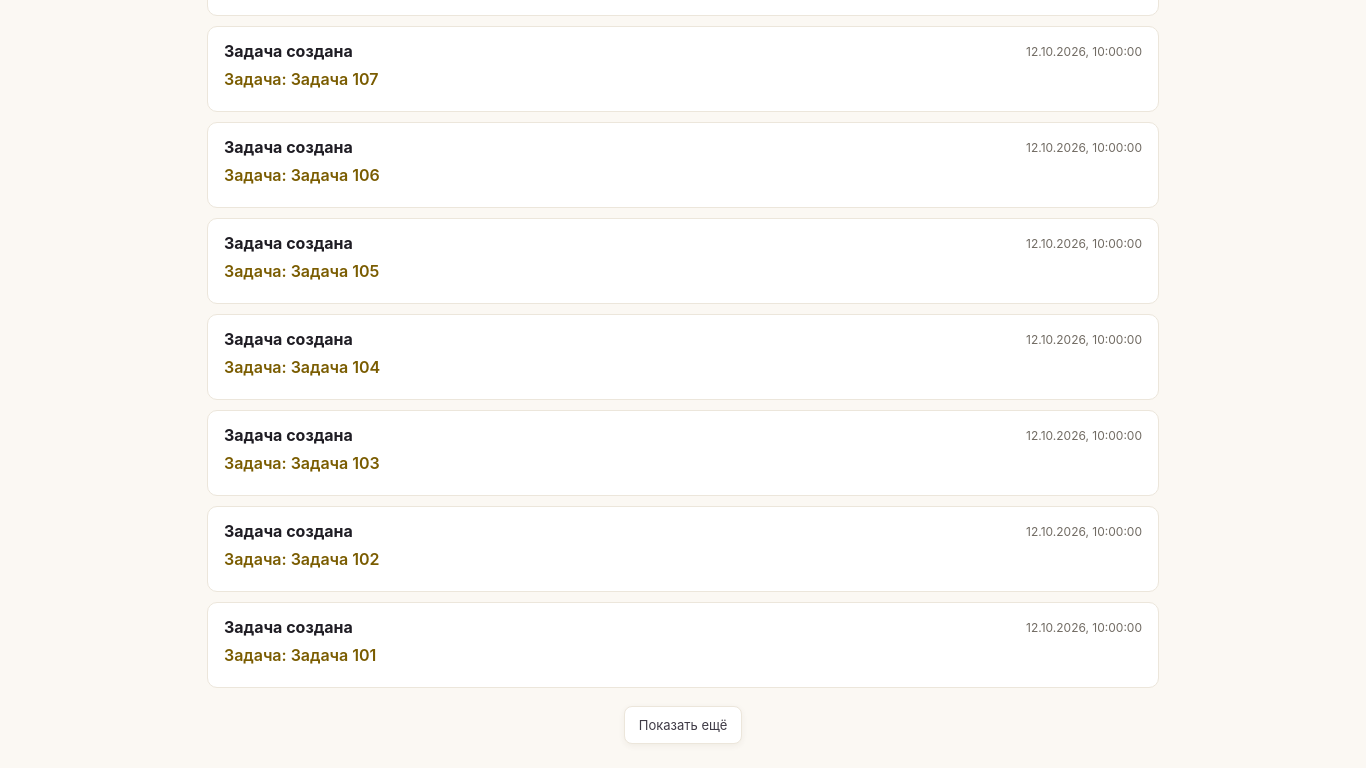
Test case: global event feed › shows the newest page first, puts live events on top, and loads older pages below
The width and height of the screenshot is (1366, 768).
(page scrolled)
What coordinates should you click on to do the following:
click the button "Показать ещё"
I would click on:
 (683, 725)
Its box is [624,706,742,744].
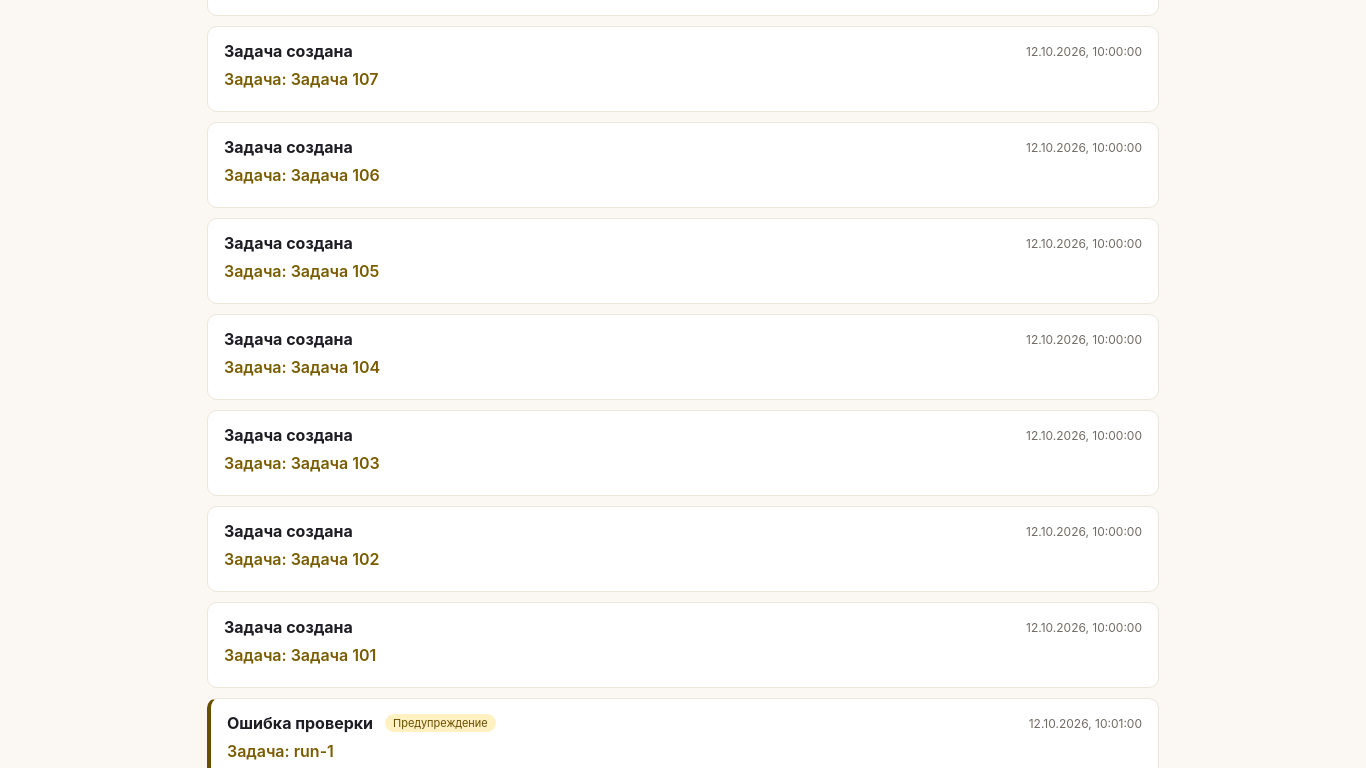
Result: the text "Ошибка проверки" is shown at [227,713,373,733]
Result: the link "Задача: run-1" is shown at [227,741,334,761]
Result: the button "Показать ещё" is gone
